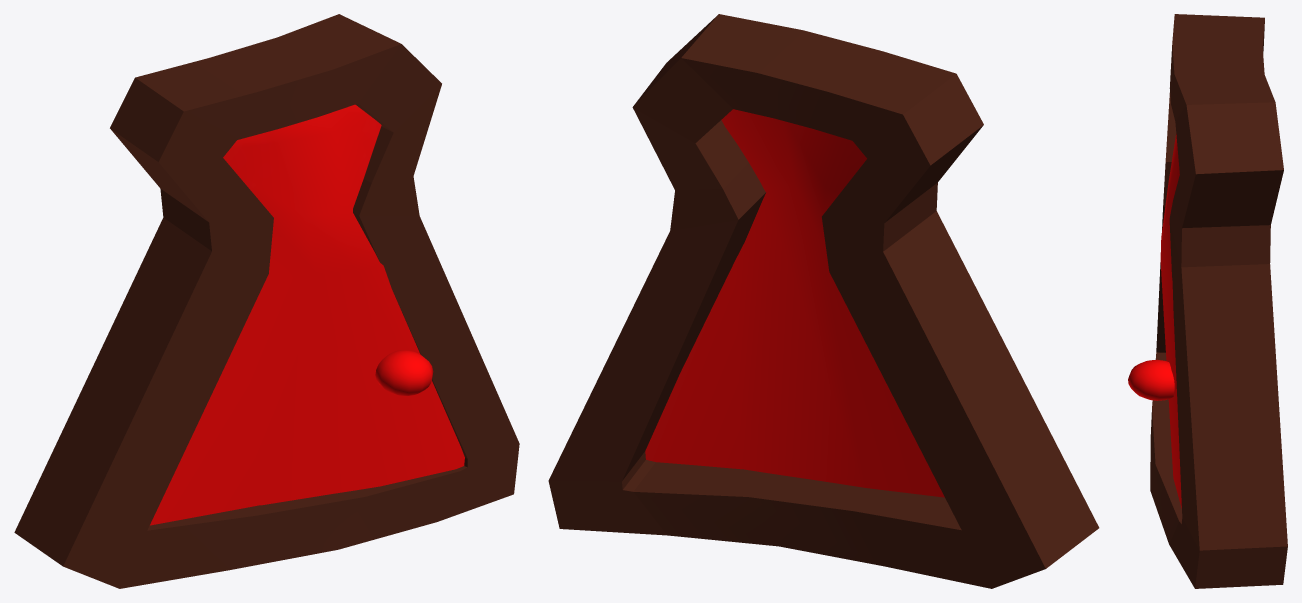
Rendered from door_01.fbx.
3 renders of one model, left to right at view 1: azimuth 30°, elevation 25°; view 2: azimuth 150°, elevation 25°; view 3: azimuth 270°, elevation 25°, orthographic. The views are drawn at different scales.
Visible parts, largest first — view 1: door_01; view 2: door_01; view 3: door_01.
Boxes of the visible parts, x1=… form: door_01: x1=14, y1=14, x2=519, y2=588; door_01: x1=548, y1=14, x2=1099, y2=588; door_01: x1=1128, y1=14, x2=1287, y2=588.
Size of the model in its own units: 226 by 219 by 72.75.
Materials: 2 (1 with a texture image).
